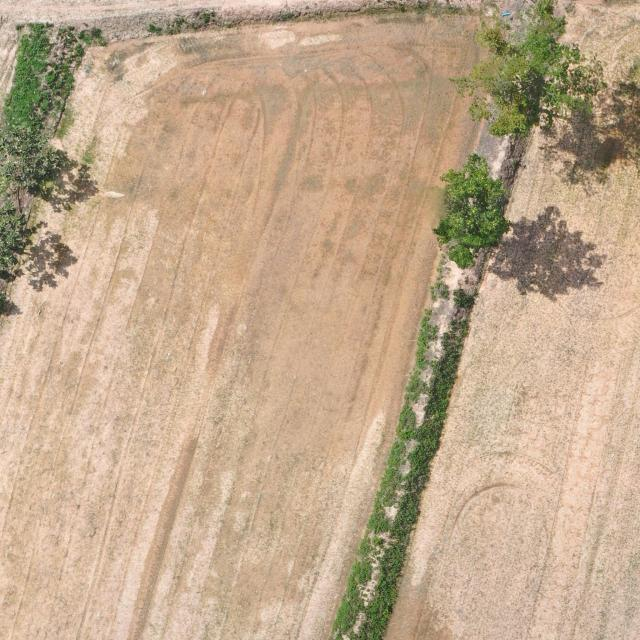tree: (449, 0, 609, 138), (432, 152, 512, 270), (0, 124, 78, 197), (0, 195, 36, 272)
